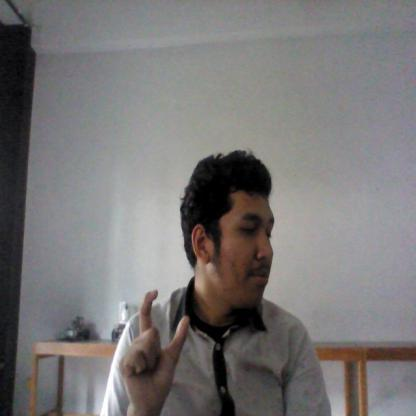U: (118, 290, 190, 414)
